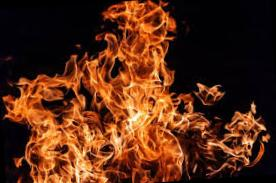Fire: (15, 0, 265, 183)
